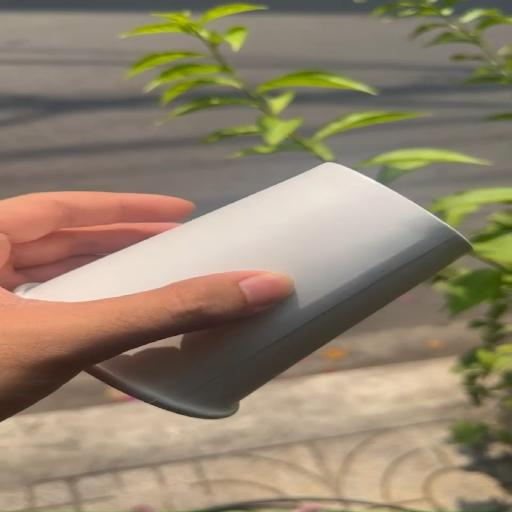Ly_giay: (15, 163, 469, 418)
